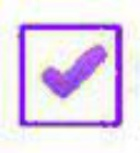CheckBox: (1, 1, 139, 152)
